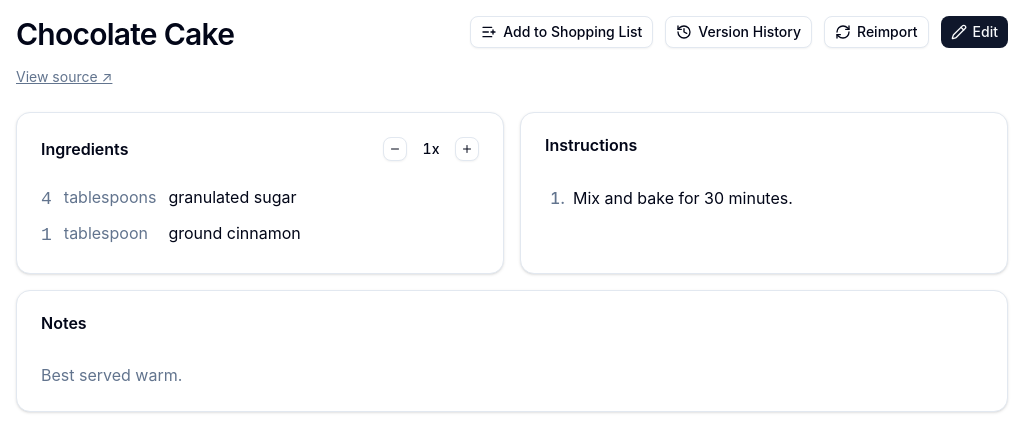
Test: RecipeDetailPage › scales ingredient quantities from the page without refetching
The width and height of the screenshot is (1024, 430).
Expected: the text "4" is shown, [41,185,52,213]
Expected: the text "tablespoons" is shown, [64,185,156,213]
Click the button named "increase scale" at (467, 149), box [455,137,479,161]
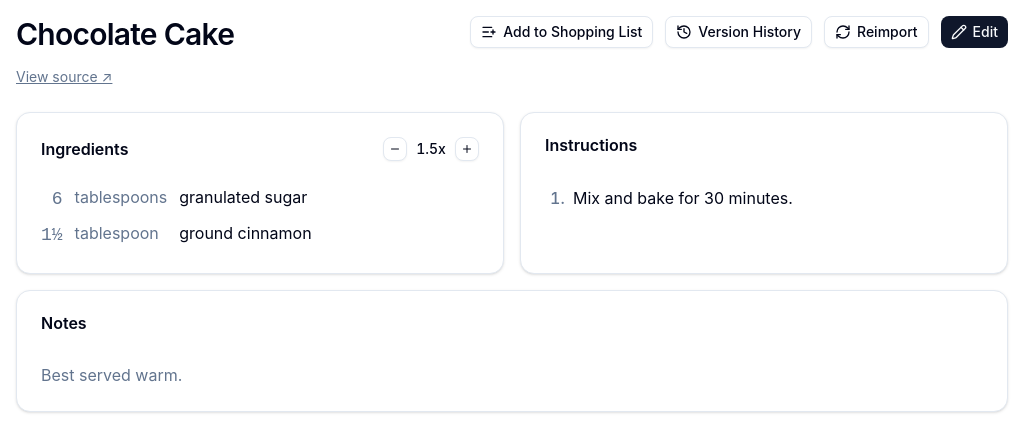
Result: the text "6" is shown at [52,189,63,209]
